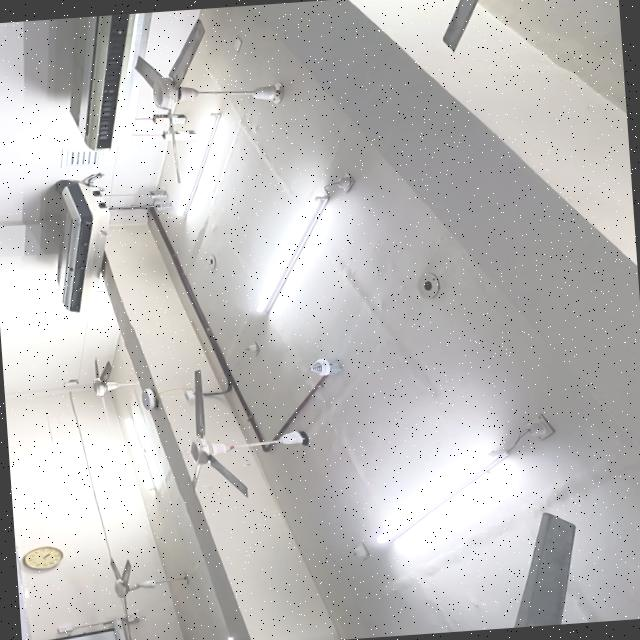Ac: (70, 11, 152, 150), (56, 173, 110, 311)
Light: (256, 172, 354, 312), (377, 451, 506, 541), (176, 112, 221, 216), (125, 416, 155, 490)
